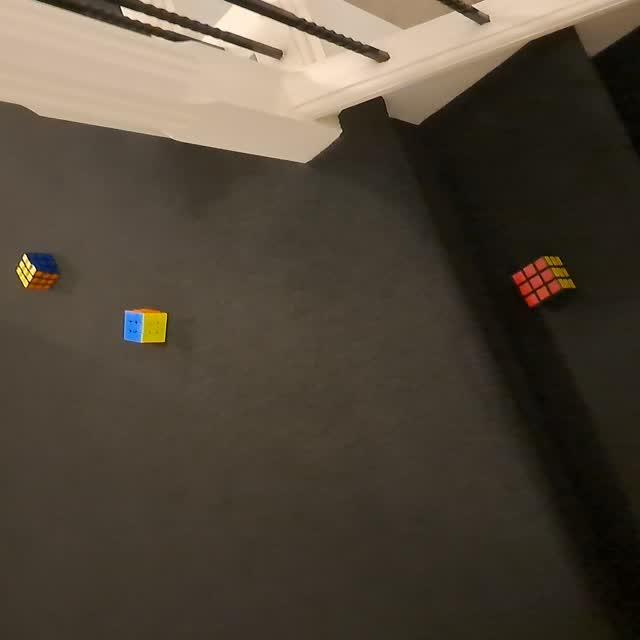rubix_cube: (507, 252, 578, 314), (12, 250, 64, 294), (121, 305, 171, 346)
